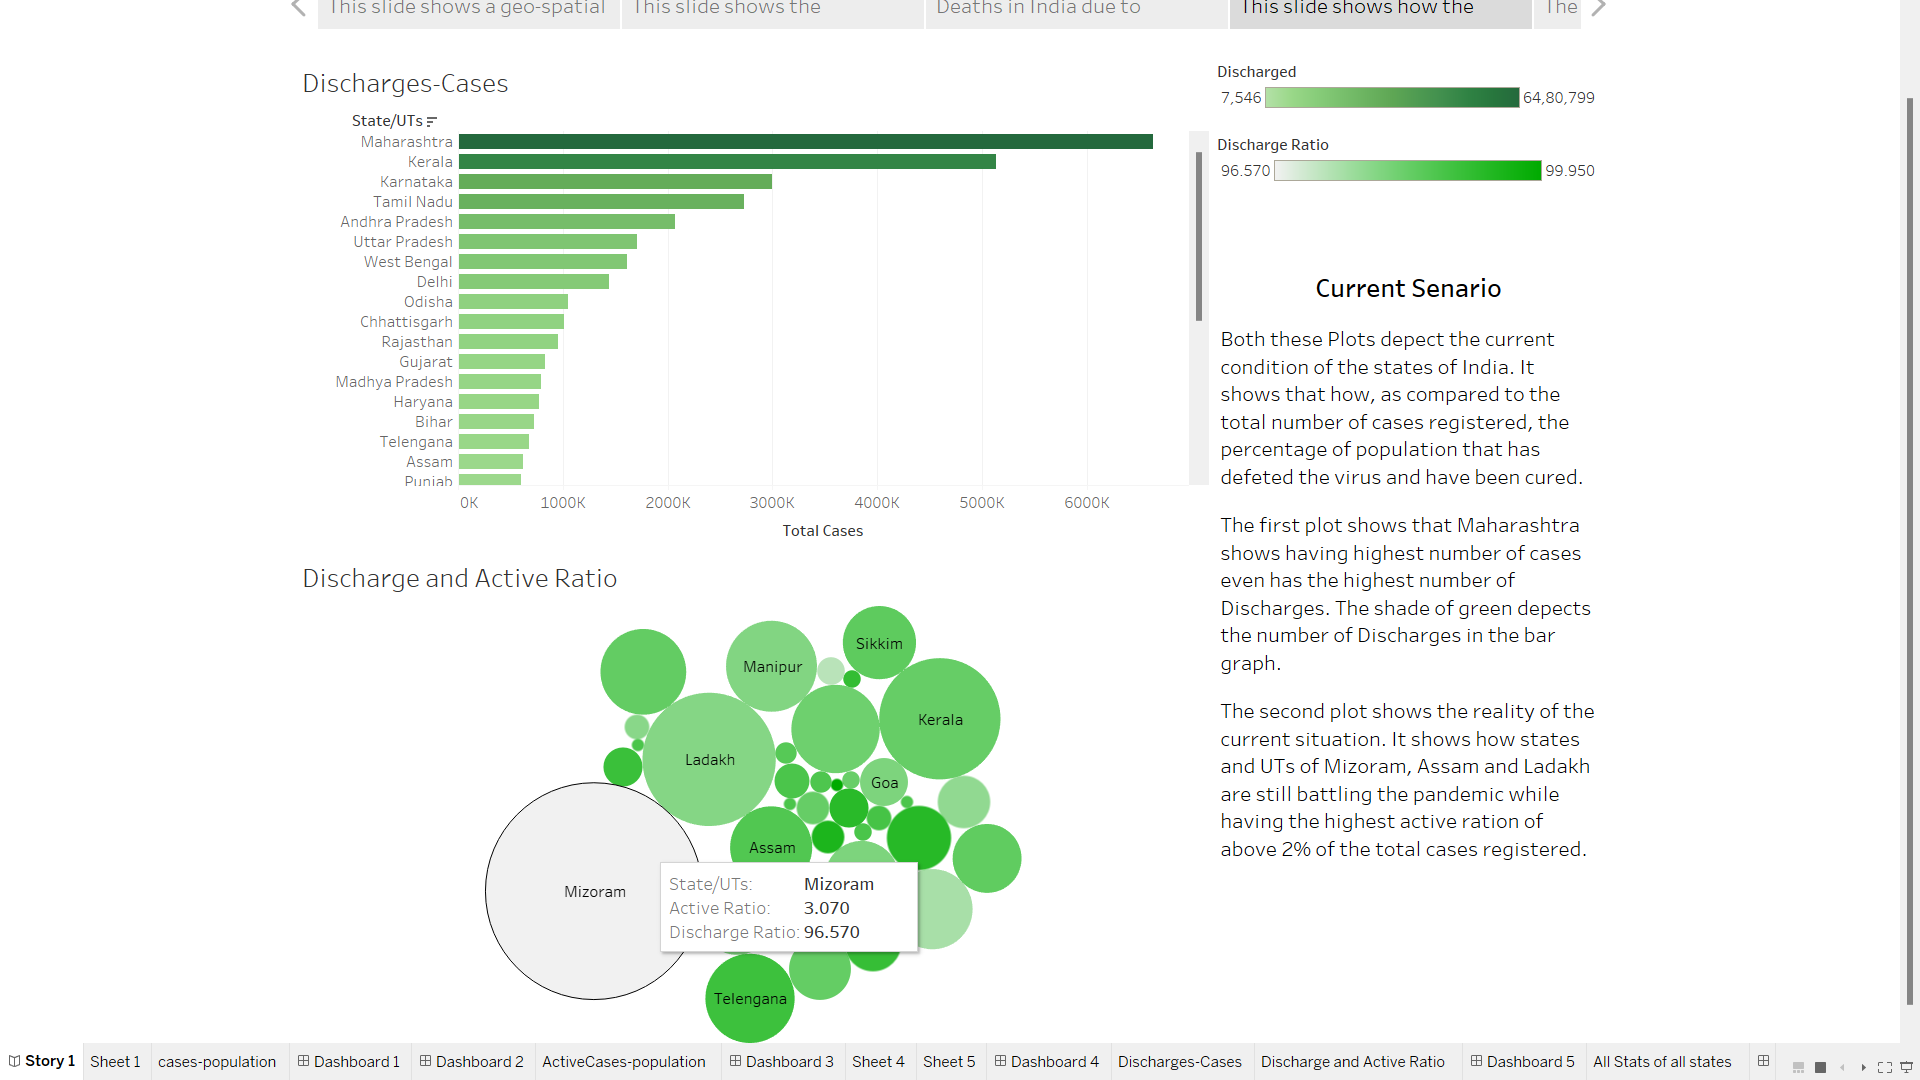

What the dashboard file says about the page in this screenshot:
{"tool":"tableau","page":{"name":"Dashboard 5","canvas":[1000,1000],"units":"permille","ordinal":4},"visuals":[{"type":"worksheet","title":"Discharges-Cases","mark":"Automatic","rows":["State/UTs"],"cols":["Total Cases"],"box":[4.9,9.4,752.1,490.6]},{"type":"legend","title":"Discharges-Cases","param":"[federated.0qp4arw0ty7htq17ph0xu04r5b4q].[sum:Discharged:qk]","box":[757,9.4,238.1,85.8]},{"type":"legend","title":"Discharge and Active Ratio","param":"[federated.0qp4arw0ty7htq17ph0xu04r5b4q].[sum:Discharge Ratio:qk]","box":[757,95.2,238.1,85.8]},{"type":"text","box":[757,214.7,238.1,720.3]},{"type":"worksheet","title":"Discharge and Active Ratio","mark":"Circle","box":[4.9,500,752.1,490.6]}]}

Visuals, with their boxes on the dashboard's canvas, which has no fixed pixel size, in thousandths of its width and height (x1, y1, x2, y2). These are canvas units, not pixel positions in the 1920x1080 screenshot, which may show the page scaled, cropped or inside an application window:
"Discharges-Cases" worksheet: x1=5 y1=9 x2=757 y2=500
"Discharges-Cases" legend: x1=757 y1=9 x2=995 y2=95
"Discharge and Active Ratio" legend: x1=757 y1=95 x2=995 y2=181
text: x1=757 y1=215 x2=995 y2=935
"Discharge and Active Ratio" worksheet (Circle marks): x1=5 y1=500 x2=757 y2=991
